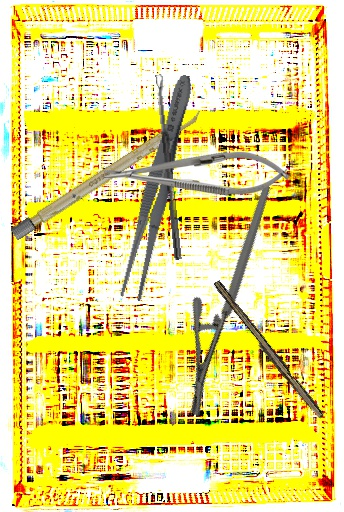Dressing Forceps: (115, 71, 201, 303)
Needle Holder: (128, 183, 335, 418), (103, 150, 290, 196)
Scalpel Handle: (10, 107, 205, 241), (208, 279, 328, 422)
Surgical Spoon: (155, 74, 183, 260)
